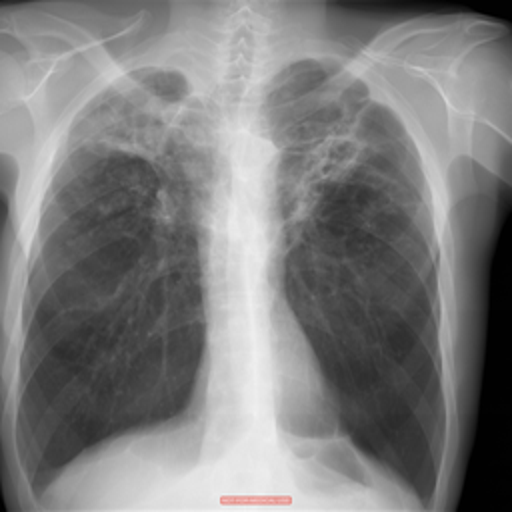TB: (89, 96, 209, 180), (288, 117, 375, 232)
